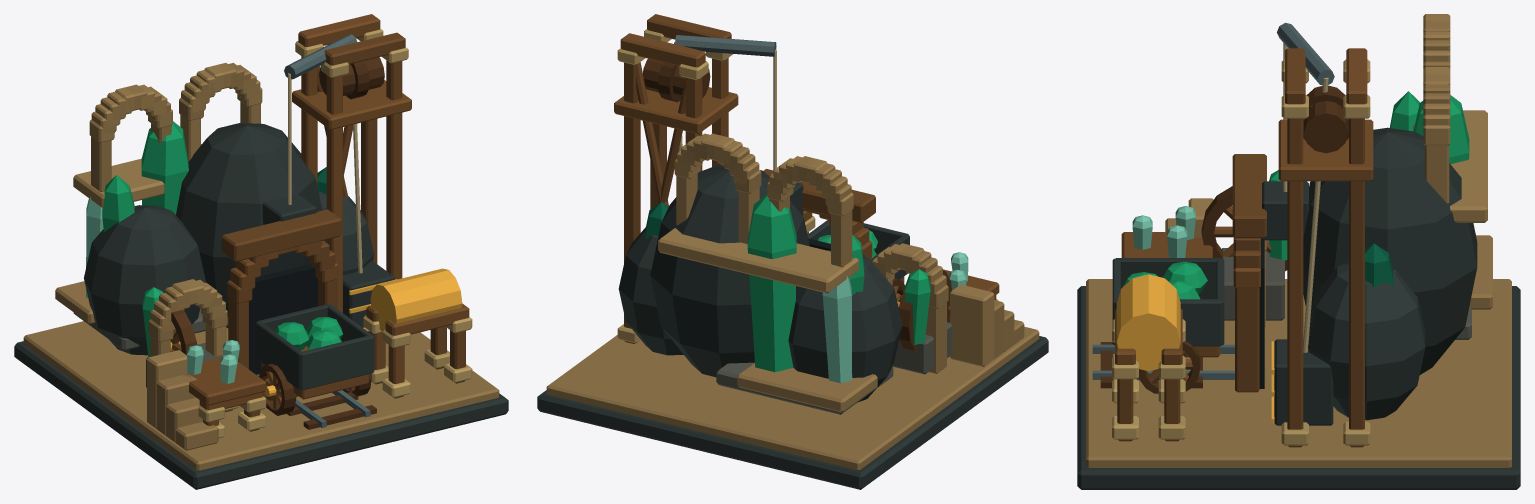
3 renders of one model, left to right at view 1: azimuth 30°, elevation 25°; view 2: azimuth 150°, elevation 25°; view 3: azimuth 270°, elevation 25°, orthographic. The views are drawn at different scales.
Parts seen in each view (by area): view 1: gem_mine_12_structure, gem_mine_12_metal; view 2: gem_mine_12_structure; view 3: gem_mine_12_structure, gem_mine_12_metal.
Part boxes in pixels (x1=…): gem_mine_12_structure: x1=14, y1=14, x2=508, y2=489; gem_mine_12_metal: x1=170, y1=268, x2=462, y2=396; gem_mine_12_structure: x1=537, y1=14, x2=1048, y2=489; gem_mine_12_structure: x1=1077, y1=14, x2=1520, y2=489; gem_mine_12_metal: x1=1116, y1=274, x2=1274, y2=423.
Bounding box in the file's own units: 3.6 × 3.49 × 3.6.
